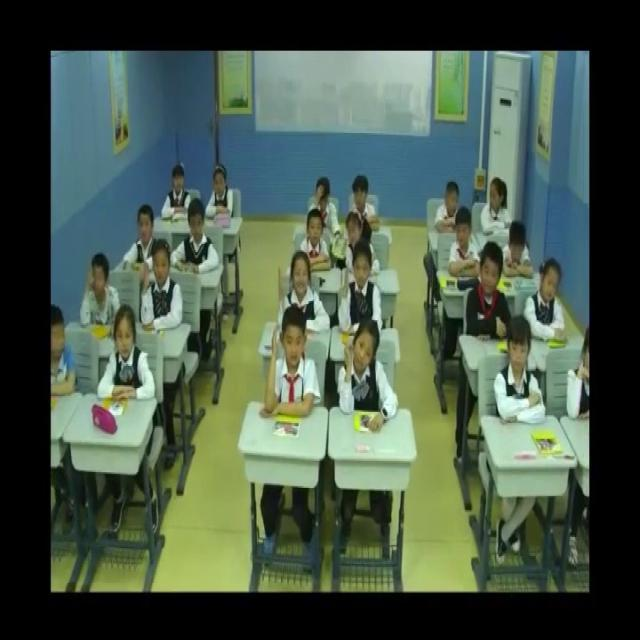distracted: (342, 209, 381, 280), (51, 306, 78, 401), (483, 174, 518, 244), (434, 180, 469, 238)
focused: (97, 303, 157, 409), (497, 319, 546, 432), (468, 244, 514, 335), (170, 195, 220, 278), (525, 253, 566, 346), (449, 205, 487, 284), (125, 207, 165, 271), (160, 162, 199, 227), (349, 173, 384, 238), (299, 209, 333, 275), (502, 215, 536, 279), (205, 162, 239, 226), (310, 173, 340, 235)
raising_hand: (335, 315, 402, 431), (265, 302, 320, 424), (276, 244, 330, 336), (336, 238, 384, 338), (139, 236, 183, 334), (79, 252, 122, 332)
